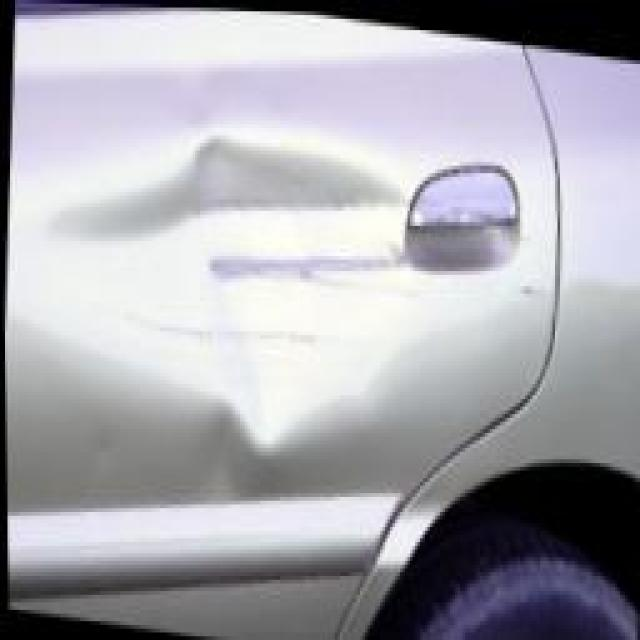Door: (6, 107, 555, 476)
